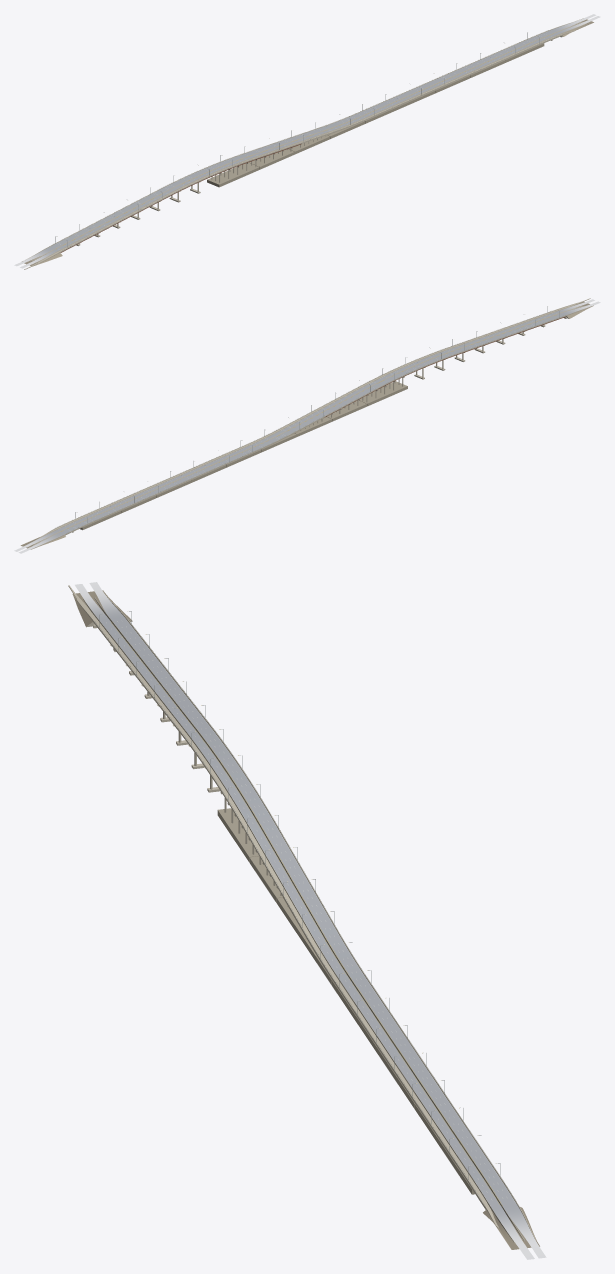
The model's file is w-r-bennett-bridge-near.glb.
3 views of the same model, one above another, from view 1: azimuth 30°, elevation 25°; view 2: azimuth 210°, elevation 25°; view 3: azimuth 270°, elevation 25° (orthographic). The views are drawn at different scales.
Parts seen in each view (by area): view 1: w-r-bennett-bridge-0-asphalt, w-r-bennett-bridge-1-pontoon, w-r-bennett-bridge-2-asphalt, w-r-bennett-bridge-1-concrete, w-r-bennett-bridge-1-asphalt, w-r-bennett-bridge-0-concrete, w-r-bennett-bridge-2-concrete, w-r-bennett-bridge-2-pontoon; view 2: w-r-bennett-bridge-1-asphalt, w-r-bennett-bridge-1-concrete, w-r-bennett-bridge-2-asphalt, w-r-bennett-bridge-0-concrete, w-r-bennett-bridge-0-asphalt, w-r-bennett-bridge-1-pontoon, w-r-bennett-bridge-2-concrete, w-r-bennett-bridge-2-pontoon; view 3: w-r-bennett-bridge-1-asphalt, w-r-bennett-bridge-2-asphalt, w-r-bennett-bridge-0-asphalt, w-r-bennett-bridge-1-concrete, w-r-bennett-bridge-0-concrete, w-r-bennett-bridge-2-concrete, w-r-bennett-bridge-1-pontoon.
Boxes of the visible parts, x1=… form: w-r-bennett-bridge-0-asphalt: x1=14, y1=168, x2=215, y2=268; w-r-bennett-bridge-1-pontoon: x1=207, y1=101, x2=411, y2=187; w-r-bennett-bridge-2-asphalt: x1=400, y1=14, x2=600, y2=98; w-r-bennett-bridge-1-concrete: x1=206, y1=95, x2=411, y2=182; w-r-bennett-bridge-1-asphalt: x1=207, y1=95, x2=407, y2=171; w-r-bennett-bridge-0-concrete: x1=24, y1=167, x2=218, y2=269; w-r-bennett-bridge-2-concrete: x1=399, y1=20, x2=585, y2=100; w-r-bennett-bridge-2-pontoon: x1=411, y1=43, x2=544, y2=103; w-r-bennett-bridge-1-asphalt: x1=206, y1=369, x2=407, y2=467; w-r-bennett-bridge-1-concrete: x1=204, y1=368, x2=408, y2=468; w-r-bennett-bridge-2-asphalt: x1=14, y1=465, x2=214, y2=553; w-r-bennett-bridge-0-concrete: x1=397, y1=298, x2=590, y2=379; w-r-bennett-bridge-0-asphalt: x1=399, y1=299, x2=600, y2=372; w-r-bennett-bridge-1-pontoon: x1=215, y1=381, x2=407, y2=471; w-r-bennett-bridge-2-concrete: x1=30, y1=463, x2=215, y2=547; w-r-bennett-bridge-2-pontoon: x1=80, y1=469, x2=215, y2=530; w-r-bennett-bridge-1-asphalt: x1=223, y1=781, x2=399, y2=1030; w-r-bennett-bridge-2-asphalt: x1=374, y1=1028, x2=546, y2=1259; w-r-bennett-bridge-0-asphalt: x1=75, y1=582, x2=248, y2=783; w-r-bennett-bridge-1-concrete: x1=217, y1=779, x2=399, y2=1032; w-r-bennett-bridge-0-concrete: x1=68, y1=585, x2=248, y2=792; w-r-bennett-bridge-2-concrete: x1=368, y1=1027, x2=535, y2=1242; w-r-bennett-bridge-1-pontoon: x1=217, y1=808, x2=367, y2=1038.
Bounding box in the file's own units: 1186 × 36.75 × 354.
